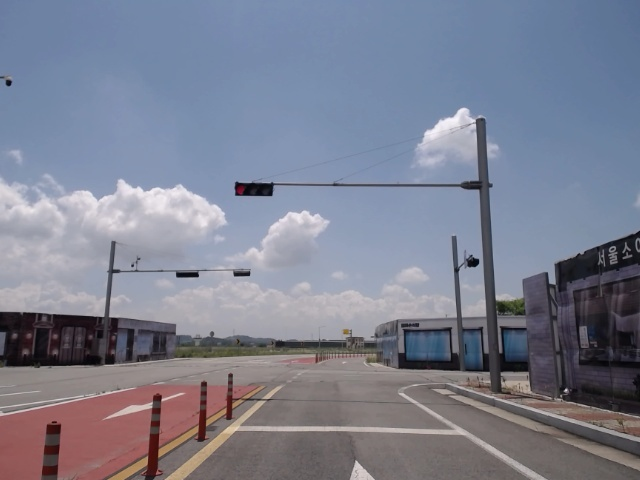red_3: (230, 180, 277, 198)
